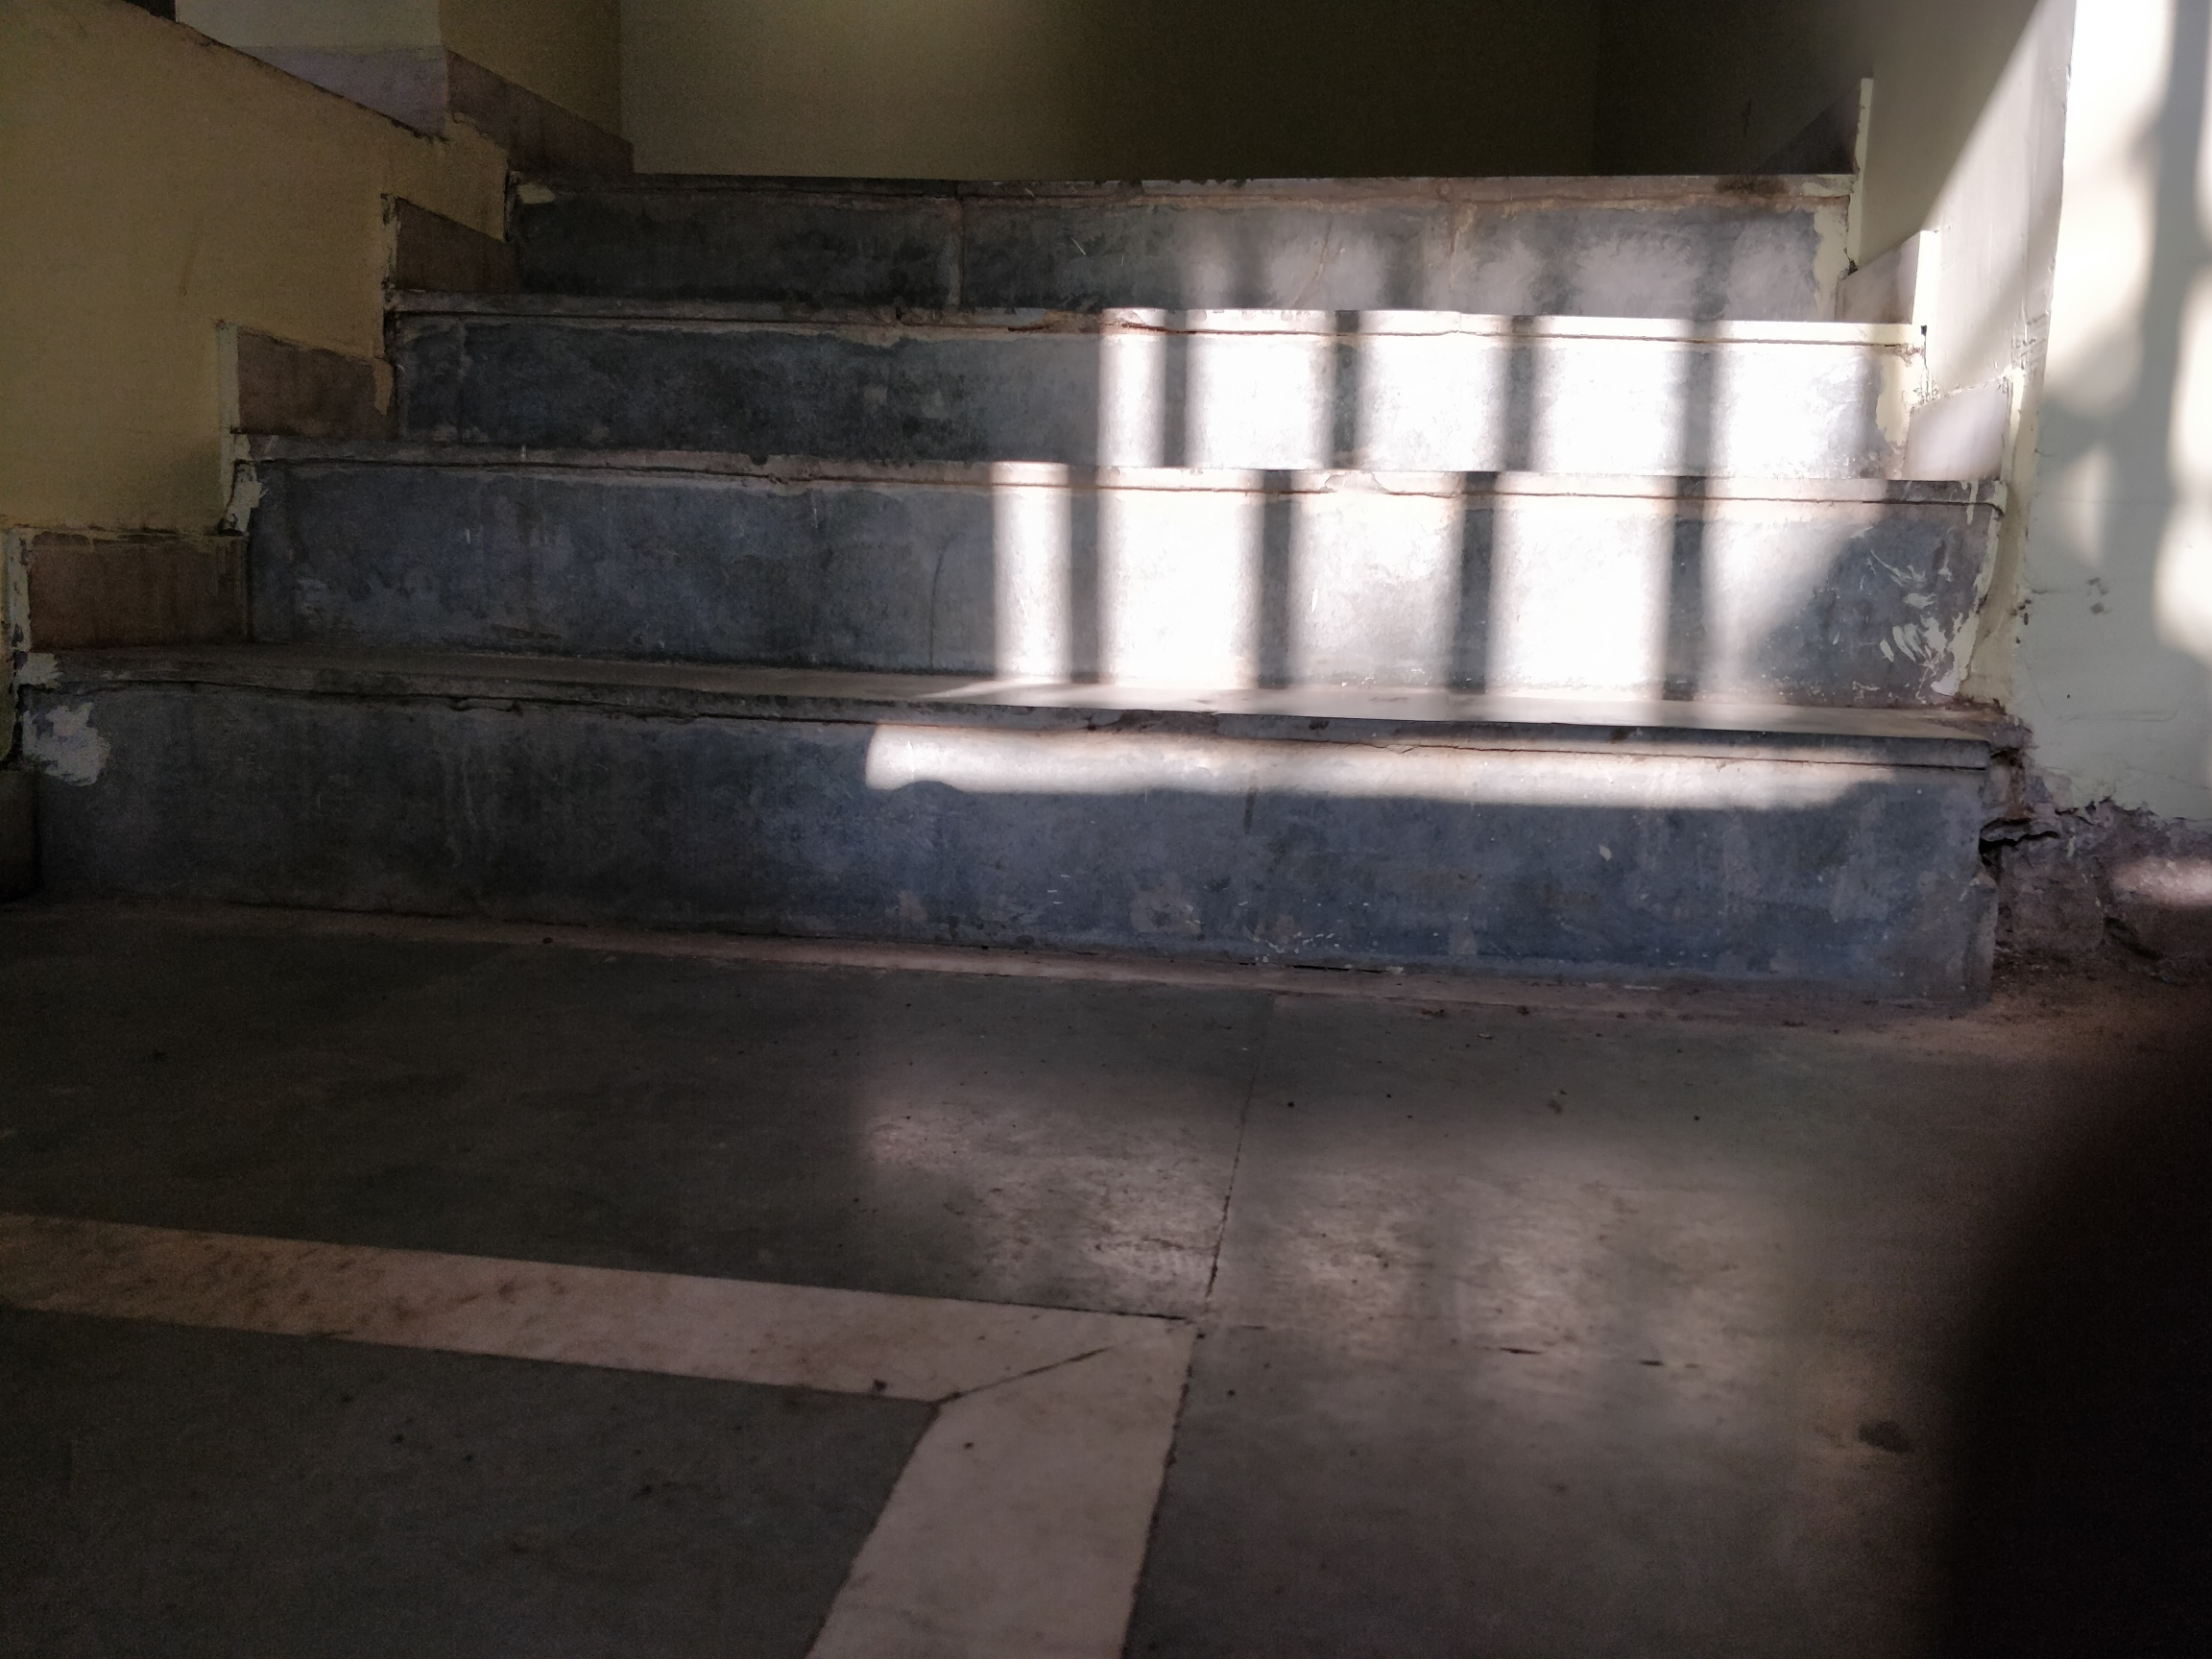stairs_up: (91, 178, 1984, 1025)
